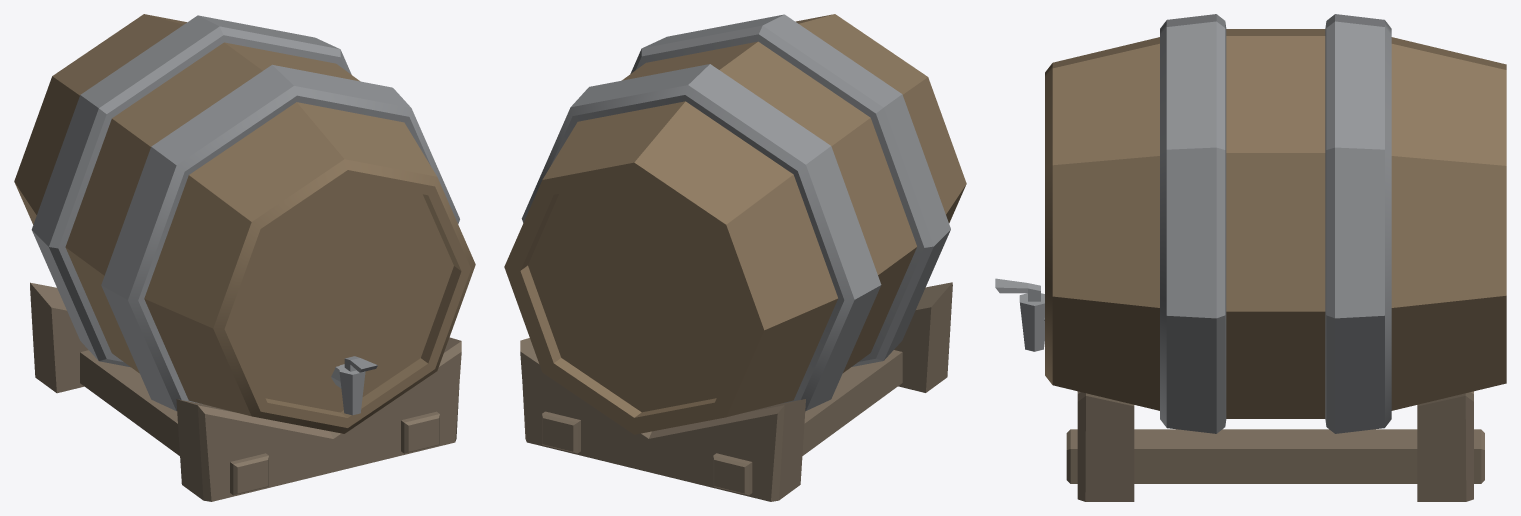
Rendered from Keg_FBX.fbx.
3 renders of one model, left to right at view 1: azimuth 30°, elevation 25°; view 2: azimuth 150°, elevation 25°; view 3: azimuth 270°, elevation 25°, orthographic. The views are drawn at different scales.
Visible parts, largest first — view 1: pCylinder15; view 2: pCylinder15; view 3: pCylinder15.
Part boxes in pixels (box(x1,y1,x2,y2)): pCylinder15: box(14, 14, 475, 501); pCylinder15: box(504, 14, 966, 501); pCylinder15: box(995, 14, 1506, 501).
Size of the model in its own units: 108 by 109 by 123.
